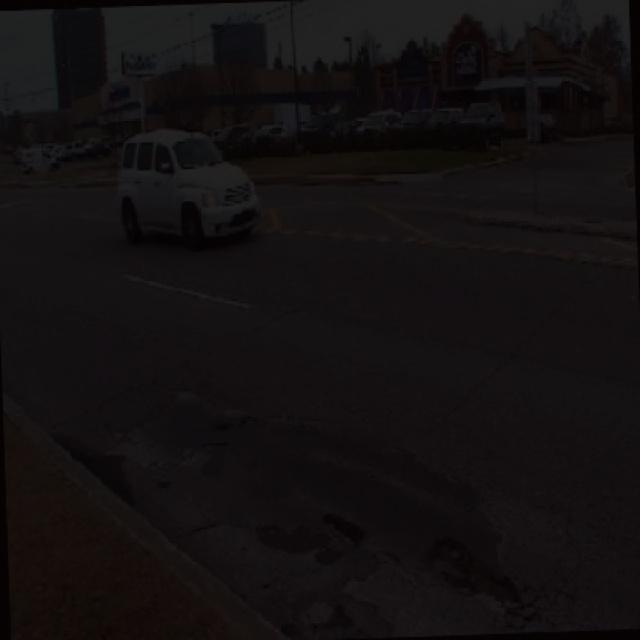Pothole: (425, 522, 537, 622), (253, 498, 384, 562), (47, 422, 145, 503), (280, 593, 391, 640)
